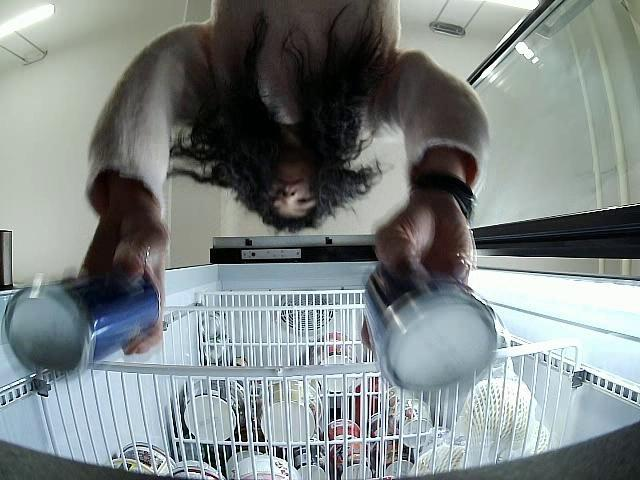16_hot6: (366, 258, 500, 394), (6, 268, 160, 384)
